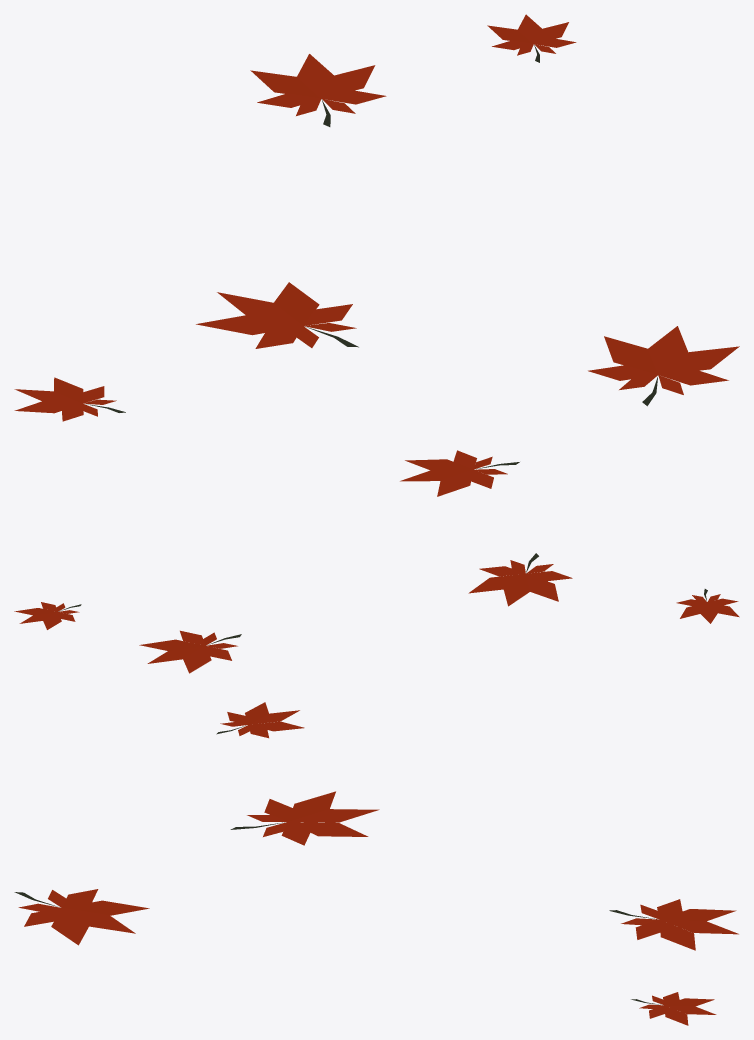
File: Fallen_Leaves.glb
The picture shows the model from 3 angles, top to bottom: view 1: azimuth 30°, elevation 25°; view 2: azimuth 150°, elevation 25°; view 3: azimuth 270°, elevation 25°; orthographic projection. The views are drawn at different scales.
Parts seen in each view (by area): view 1: fallen_leaves_01_geo; view 2: fallen_leaves_01_geo; view 3: fallen_leaves_01_geo.
Part boxes in pixels (x1=…): fallen_leaves_01_geo: x1=14, y1=14, x2=739, y2=421; fallen_leaves_01_geo: x1=14, y1=450, x2=739, y2=673; fallen_leaves_01_geo: x1=14, y1=702, x2=738, y2=1025.
Bounding box in the file's own units: 3.06 × 0.00685 × 2.9.
1 material, 1 textured.
